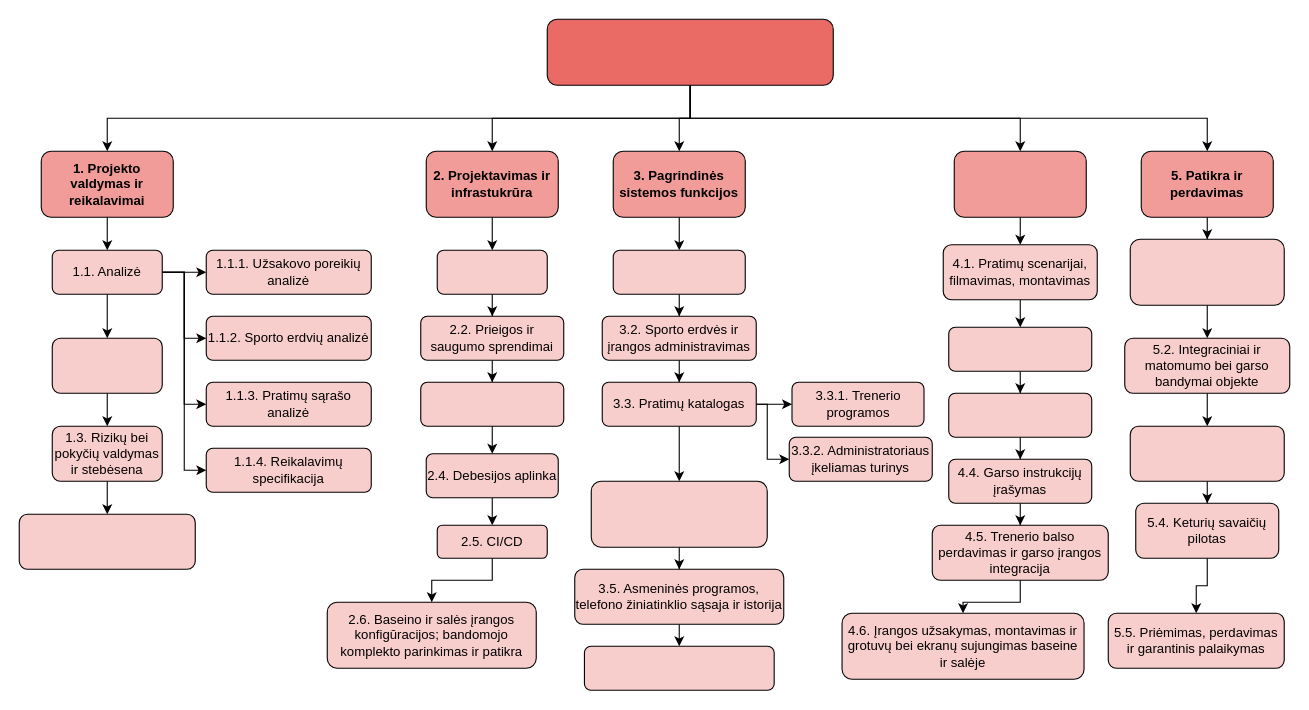
This 1309x710 diagram has some shape labels left out. Each missing label, with the centre of its shape:
"1.2. Projekto planas, ištekliai, tvarkaraštis" belongs at point (106, 365).
"1.4. Priėmimo kriterijai, demonstravimo scenarijai ir atsekamumas" belongs at point (106, 541).
"2.1. Architektūra" belongs at point (491, 271).
"2.3. Duomenų modelis, API, sąsajų prototipai" belongs at point (492, 403).
"3.1. Paskyros, vaidmenys" belongs at point (678, 271).
"3.4. Tvarkaraštis, užsiėmimo valdymas, dalyvių registracijos ir lankomumas" belongs at point (678, 513).
"3.6.Virtualaus trenerio vykdymo variklis ir sinchronizacija" belongs at point (678, 667).
"4. Turinio gamyba ir pateikimas" belongs at point (1019, 183).
"4.2. Pratimų vaizdo pateikimas" belongs at point (1020, 348).
"4.3. Vietinio ,,Android'' grotuvo programa" belongs at point (1020, 414).
"5.1. Funkciniai, saugumo ir vaidmenų prieigos bandymai" belongs at point (1206, 271).
"5.3. Trenerių ir administratorių mokymai" belongs at point (1206, 453).
"Individualių ir grupinių užsiėmimų valdymas" belongs at point (689, 51).
